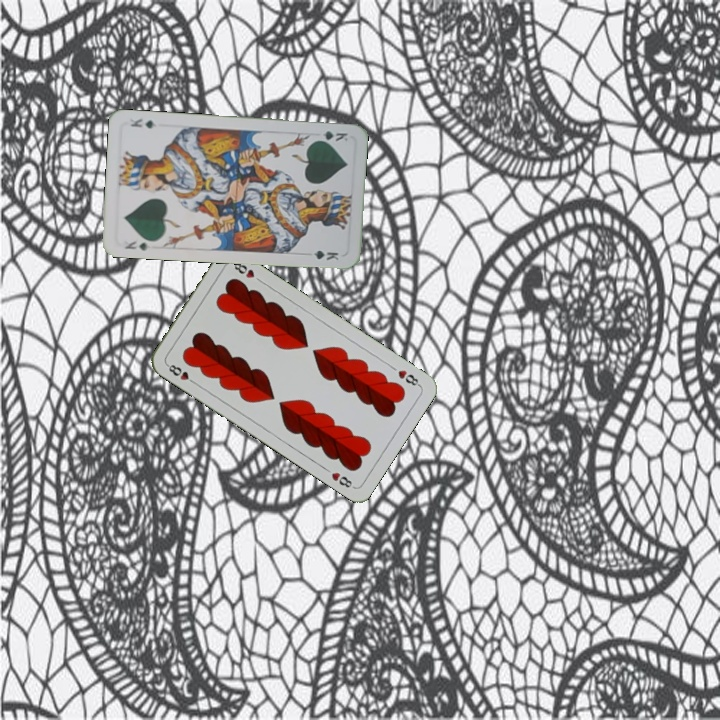GK: (311, 127, 350, 144), (120, 235, 153, 253)
H8: (163, 360, 199, 387), (394, 366, 423, 389)
